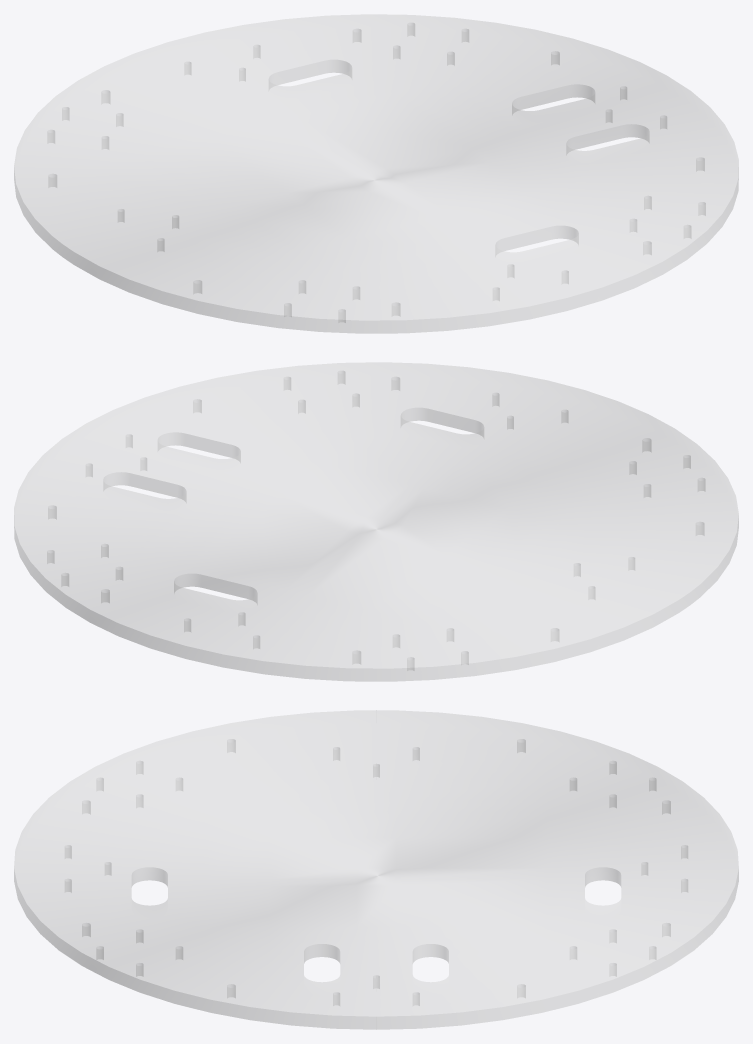
3 views of the same model, one above another, from view 1: azimuth 30°, elevation 25°; view 2: azimuth 150°, elevation 25°; view 3: azimuth 270°, elevation 25° (orthographic).
Parts seen in each view (by area): view 1: alpha3_top_plate-1 - Part_clonedChild, alpha3_top_plate-1 - Part; view 2: alpha3_top_plate-1 - Part_clonedChild, alpha3_top_plate-1 - Part; view 3: alpha3_top_plate-1 - Part_clonedChild, alpha3_top_plate-1 - Part.
Part boxes in pixels (left/top/right/bottom): alpha3_top_plate-1 - Part_clonedChild: left=14, top=14, right=738, bottom=333; alpha3_top_plate-1 - Part: left=14, top=15, right=738, bottom=332; alpha3_top_plate-1 - Part_clonedChild: left=14, top=362, right=738, bottom=681; alpha3_top_plate-1 - Part: left=14, top=363, right=738, bottom=680; alpha3_top_plate-1 - Part_clonedChild: left=14, top=710, right=738, bottom=1029; alpha3_top_plate-1 - Part: left=14, top=710, right=738, bottom=1028.
Size of the model in its own units: 0.4 by 0.008 by 0.3998.
1 material, 1 textured.
